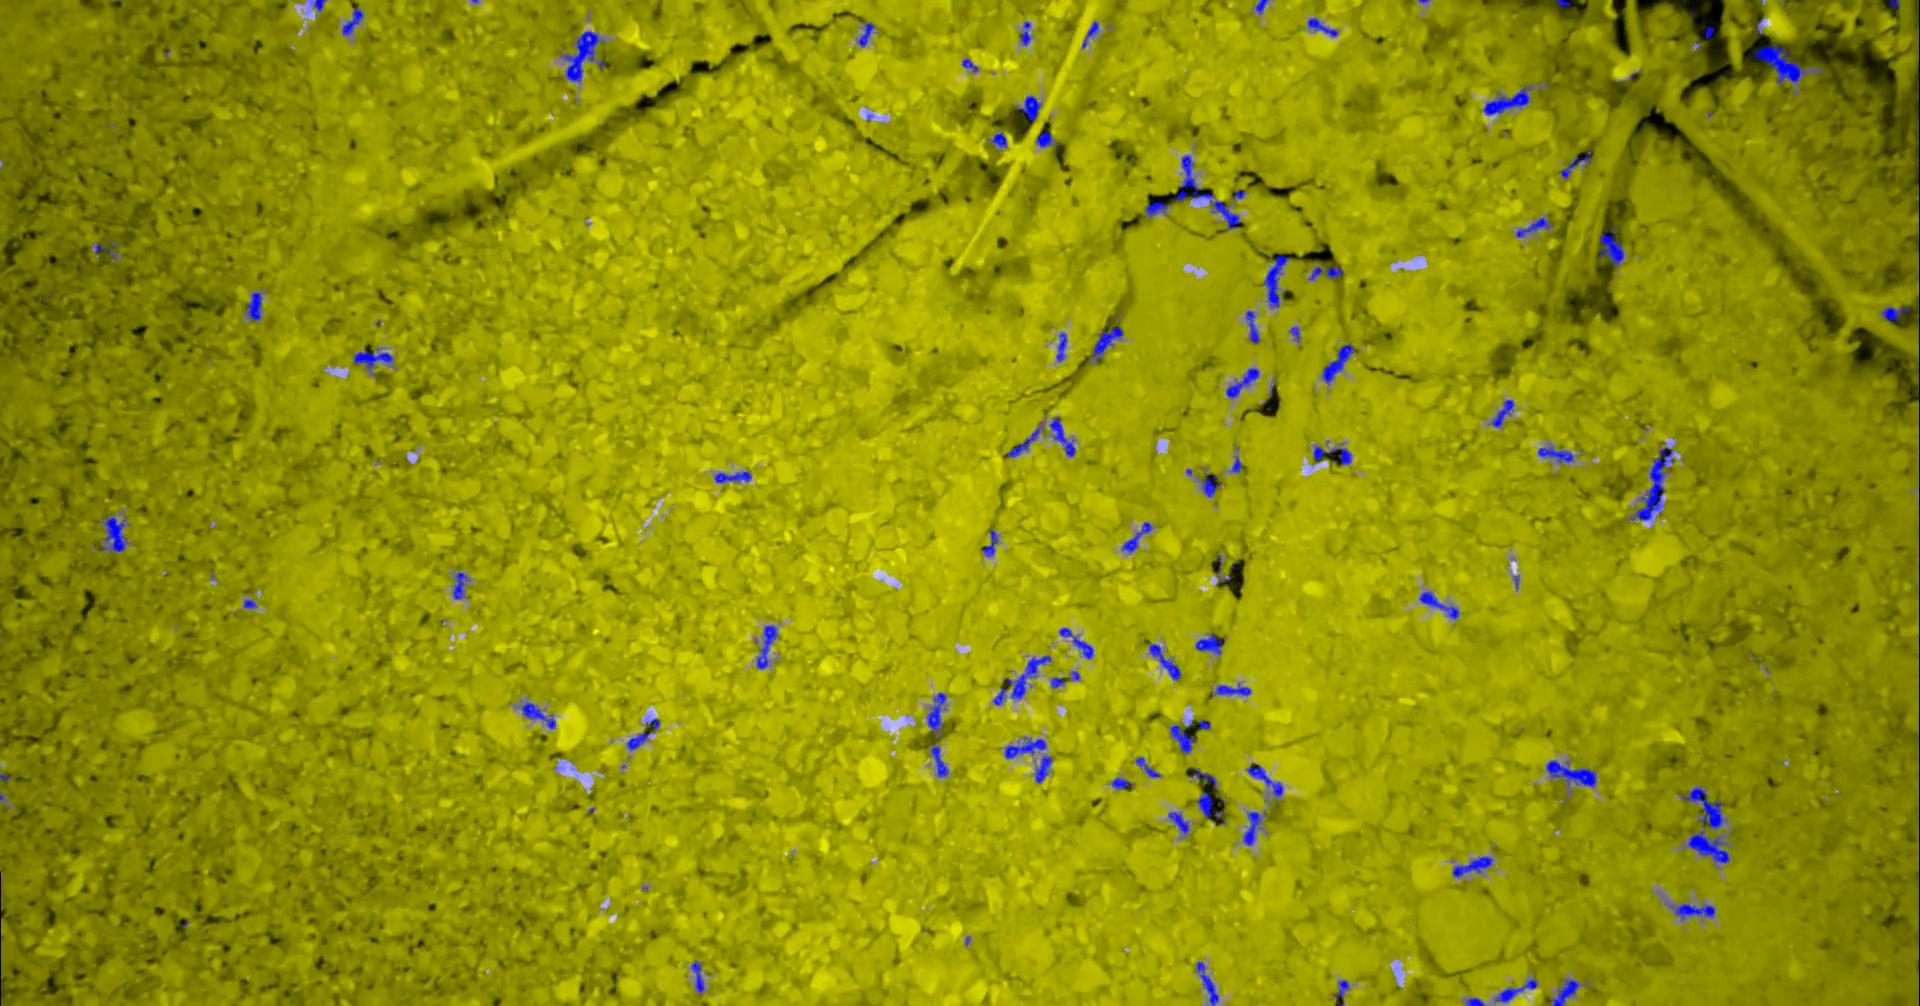ant: (1177, 155, 1241, 229), (1632, 441, 1674, 520), (1752, 44, 1808, 84), (563, 30, 601, 81), (1008, 655, 1053, 699), (1263, 254, 1291, 307), (1547, 760, 1597, 788), (1484, 86, 1531, 116), (1323, 343, 1356, 384), (1248, 762, 1284, 796), (1150, 641, 1182, 680), (1091, 326, 1125, 361), (1420, 591, 1460, 619), (1496, 977, 1539, 1002), (1060, 627, 1095, 659), (1599, 226, 1625, 265), (1227, 367, 1261, 398), (1197, 960, 1220, 1005), (1008, 427, 1041, 457), (1051, 417, 1077, 456), (102, 516, 130, 551), (1123, 521, 1153, 553), (1006, 735, 1048, 758), (928, 692, 949, 739), (522, 701, 557, 728), (356, 348, 394, 372), (758, 625, 778, 669), (1562, 150, 1592, 178), (1453, 856, 1495, 876), (1197, 791, 1224, 823), (1171, 724, 1197, 753), (1316, 445, 1352, 465), (1552, 978, 1580, 1005), (1672, 903, 1717, 920), (1517, 217, 1552, 238), (1244, 810, 1263, 845), (1018, 95, 1043, 121), (343, 8, 364, 36), (1493, 399, 1515, 427), (1539, 446, 1575, 462), (1197, 633, 1224, 654), (1309, 17, 1338, 36), (1137, 756, 1162, 777), (932, 746, 950, 776), (1190, 768, 1218, 788), (1170, 810, 1191, 835), (1036, 754, 1054, 782), (1310, 265, 1345, 279), (1247, 310, 1261, 343), (455, 572, 471, 600), (1203, 473, 1222, 497), (629, 730, 653, 749), (858, 22, 876, 47), (1217, 682, 1252, 695), (248, 291, 263, 320), (1883, 306, 1911, 321), (984, 528, 999, 556), (1083, 22, 1100, 47), (1037, 131, 1063, 147), (97, 240, 119, 258), (1145, 199, 1170, 216), (715, 471, 753, 481), (693, 960, 705, 992), (1337, 979, 1350, 1005), (1058, 332, 1068, 361), (1021, 22, 1032, 44), (992, 132, 1008, 147), (996, 687, 1010, 705), (963, 58, 980, 71), (1112, 777, 1133, 788), (312, 0, 328, 11), (1257, 0, 1269, 13), (1467, 997, 1486, 1005), (1051, 677, 1065, 687)
